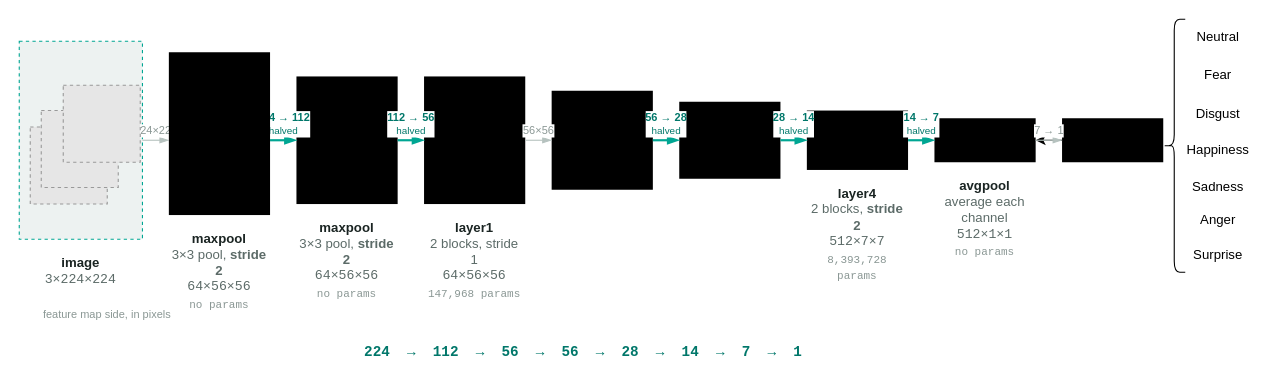
Some shapes in this 1271 by 383 pixel diagram are drawn without their labels. Grey dashed boxes stand in for pictures. The shapes that lost their labels are listed below. From the top down, each one's centre as x and y in pixels, then its label:
At point 601,139: "layer2 2 blocks, stride 2 128×28×28 525,568 params".
At point 729,139: "layer3 2 blocks, stride 2 256×14×14 2,099,712 params".
At point 1112,140: "fc linear 512 → 7 7 logits 3,591 params".
